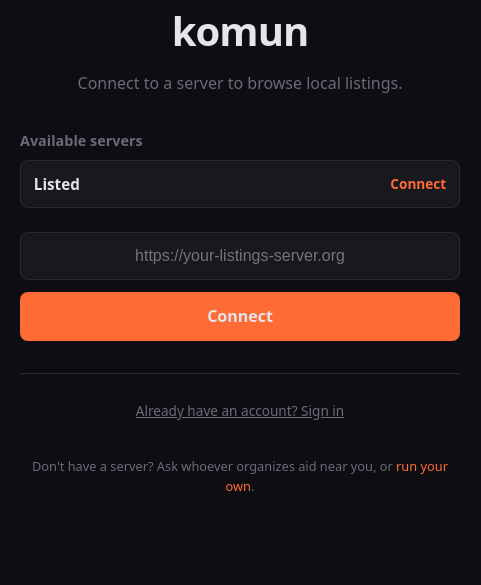
Scenario: connect page › T4: a listed server on another origin is refused visibly
Click the button "Listed Connect" at [57, 184], box top-left (20, 160), bottom-right (460, 208)
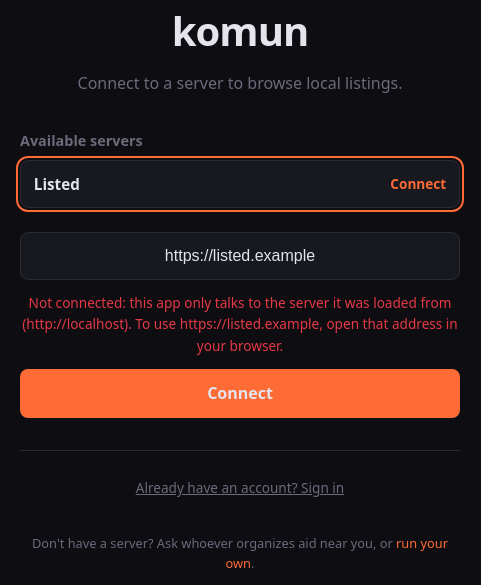
Check: the message shows "Not connected", box top-left (22, 292), bottom-right (458, 355)
Check: the message shows "http://localhost", box top-left (22, 292), bottom-right (458, 355)
Check: the message shows "https://listed.example", box top-left (22, 292), bottom-right (458, 355)
